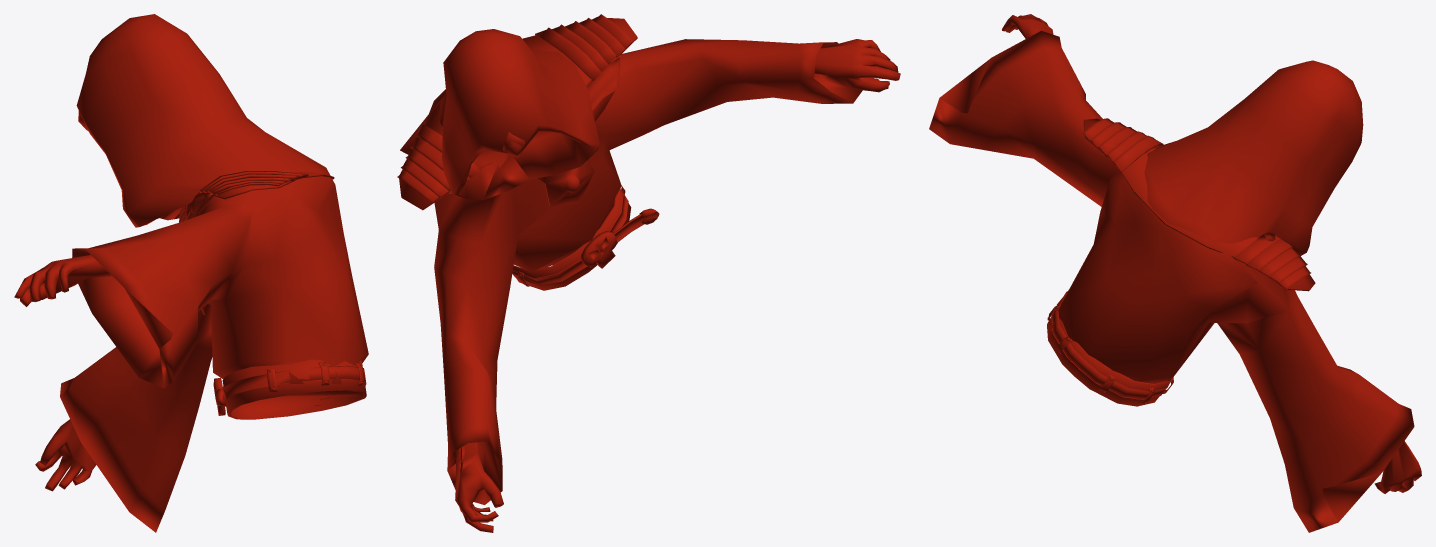
File: top_000073.obj
3 views of the same model, side by side, from view 1: azimuth 30°, elevation 25°; view 2: azimuth 150°, elevation 25°; view 3: azimuth 270°, elevation 25° (orthographic). The views are drawn at different scales.
Visible parts, largest first — view 1: LowPoly_Warlock.000_Plane.005; view 2: LowPoly_Warlock.000_Plane.005; view 3: LowPoly_Warlock.000_Plane.005.
Boxes of the visible parts, <box> form: LowPoly_Warlock.000_Plane.005: <box>14,14,368,532</box>; LowPoly_Warlock.000_Plane.005: <box>397,14,900,532</box>; LowPoly_Warlock.000_Plane.005: <box>929,14,1421,532</box>.
Bounding box in the file's own units: 1.21 × 1.44 × 1.38.
